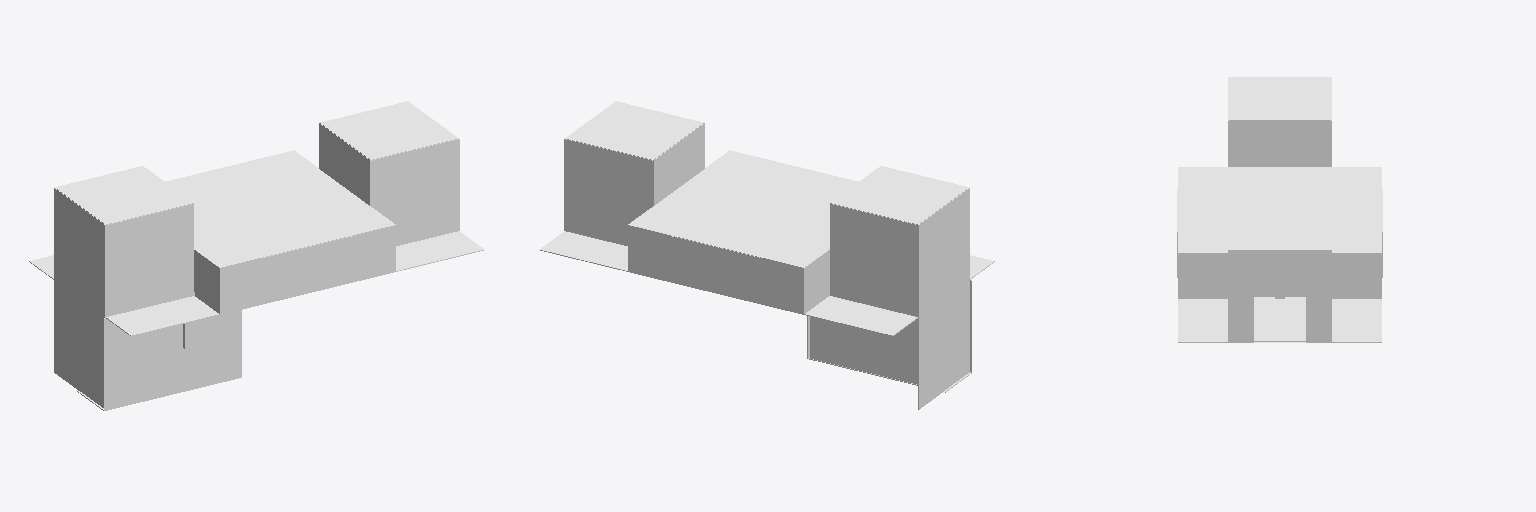
File: unknown.obj
3 views of the same model, side by side, from view 1: azimuth 30°, elevation 25°; view 2: azimuth 150°, elevation 25°; view 3: azimuth 270°, elevation 25° (orthographic).
Visible parts, largest first — view 1: concretewall03a.png, metal02.png, concretefloor01d.png; view 2: concretewall03a.png, metal02.png, concretefloor01d.png; view 3: metal02.png, concretewall03a.png, concretefloor01d.png.
Part boxes in pixels (x1,y1,x2,y2): concretewall03a.png: (54, 123, 459, 410); metal02.png: (55, 101, 458, 267); concretefloor01d.png: (29, 231, 484, 336); concretewall03a.png: (564, 123, 971, 409); metal02.png: (565, 101, 968, 267); concretefloor01d.png: (539, 231, 994, 336); metal02.png: (1178, 77, 1381, 252); concretewall03a.png: (1177, 78, 1382, 342); concretefloor01d.png: (1178, 297, 1381, 342).
Size of the model in its own units: 403 by 201 by 201.